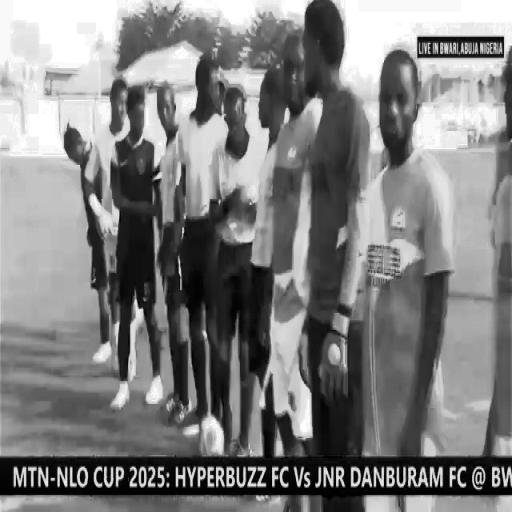keeper1: (287, 4, 370, 465)
keeper2: (114, 86, 164, 414)
